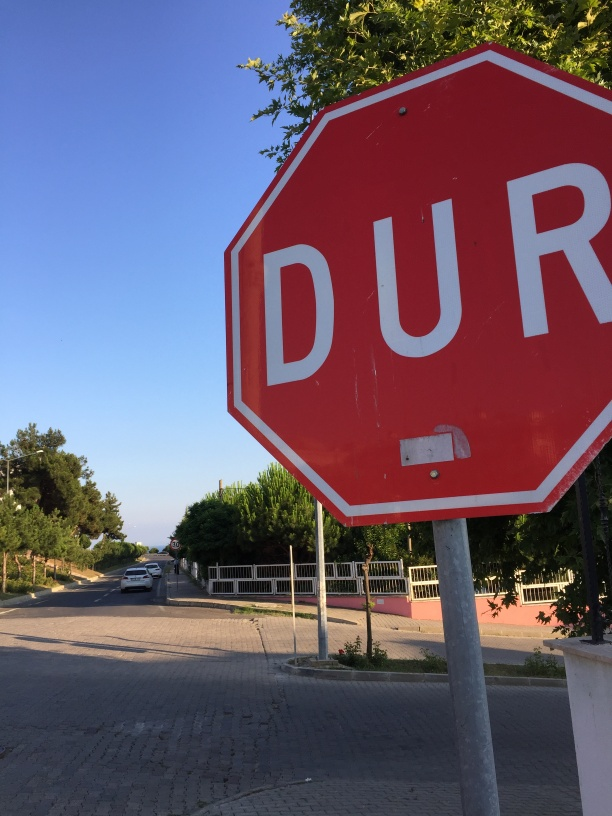arac_dur_isareti: (207, 88, 609, 690)
